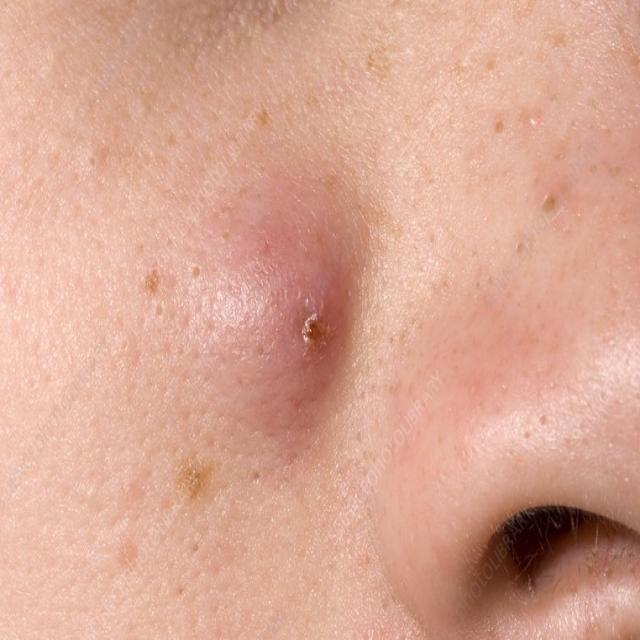nodule: (164, 126, 382, 463)
